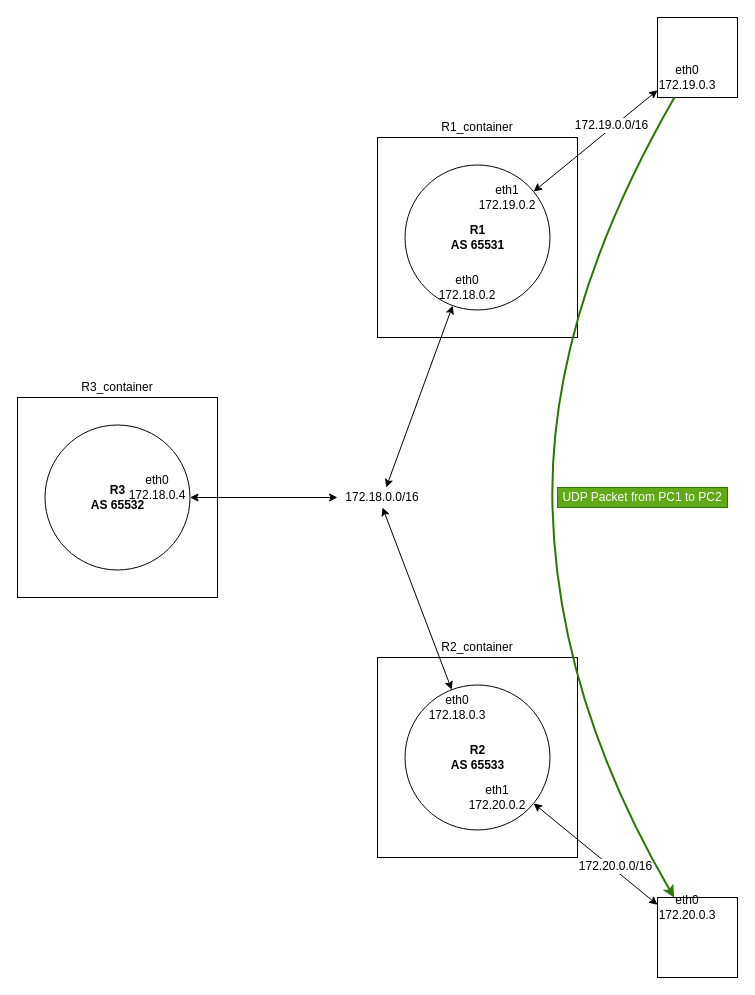
This 755x995 diagram has some shape labels left out. Here are the shapes that lost their labels. From the top down, the box of each, then its label:
(656, 16, 738, 98): PC1
(656, 896, 738, 978): PC2
